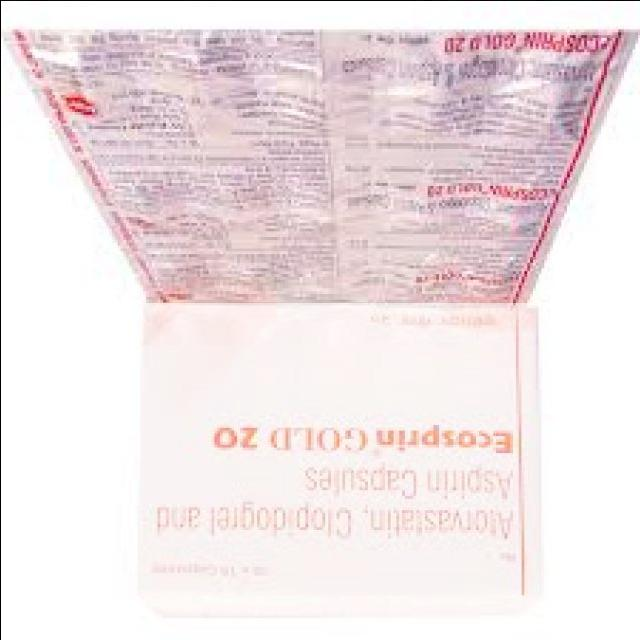authentic: (0, 21, 640, 302), (131, 300, 550, 624)
